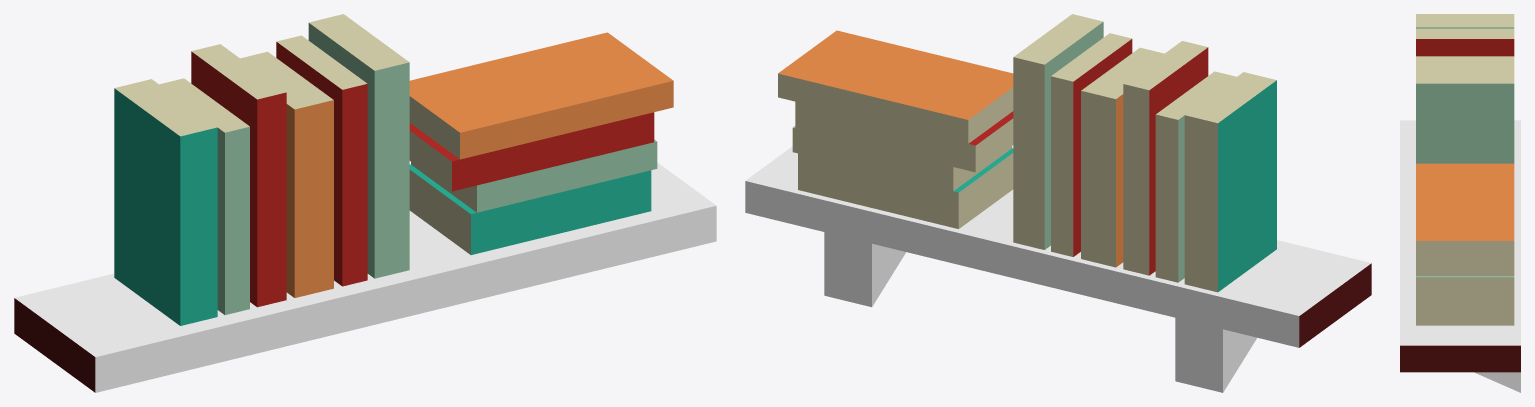
The model's file is bookshelf01.fbx.
The picture shows the model from 3 angles, left to right: view 1: azimuth 30°, elevation 25°; view 2: azimuth 150°, elevation 25°; view 3: azimuth 270°, elevation 25°; orthographic projection. The views are drawn at different scales.
Visible parts, largest first — view 1: bookshelf01; view 2: bookshelf01; view 3: bookshelf01.
Part boxes in pixels (x1=…): bookshelf01: x1=14, y1=14, x2=716, y2=392; bookshelf01: x1=745, y1=14, x2=1371, y2=392; bookshelf01: x1=1400, y1=14, x2=1520, y2=392.
Size of the model in its own units: 5.43 by 2.63 by 1.23.
